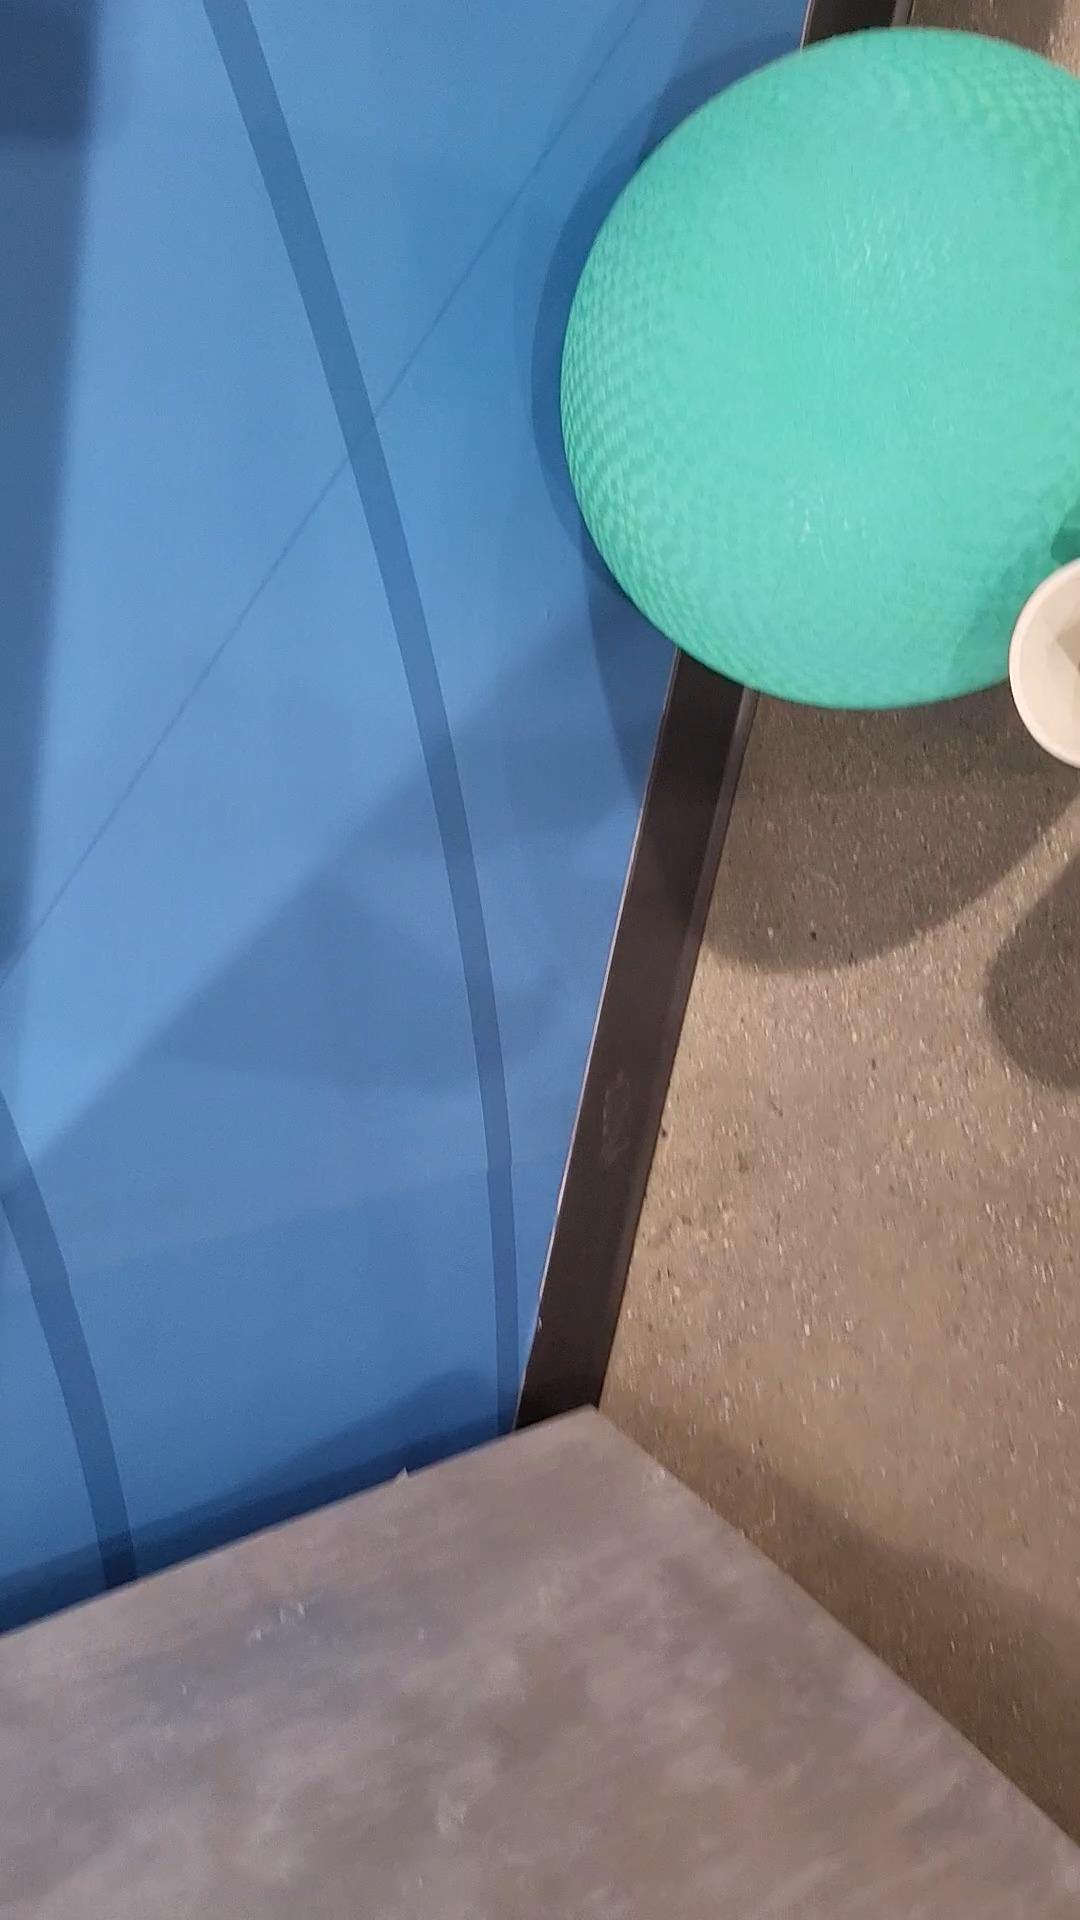algae: (558, 28, 1080, 708)
